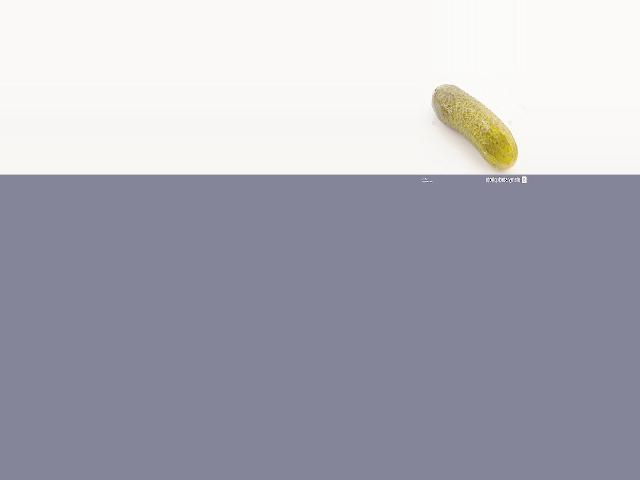cucumber: (431, 85, 517, 170)
